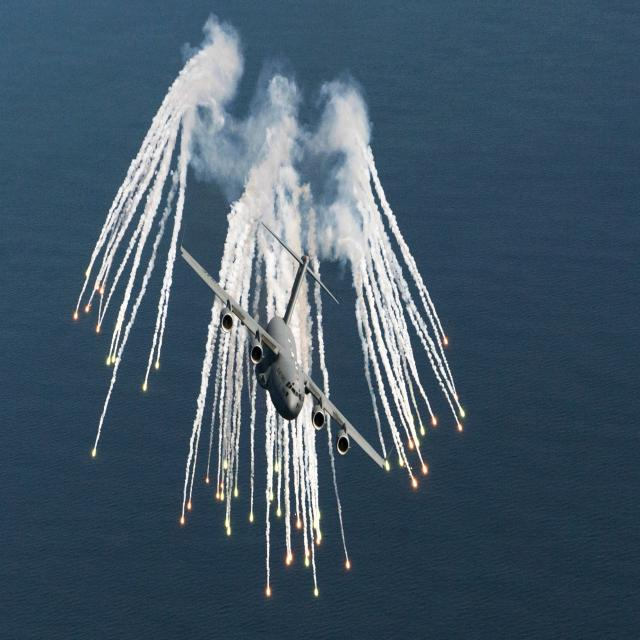MIL_Plane: (180, 220, 395, 470)
